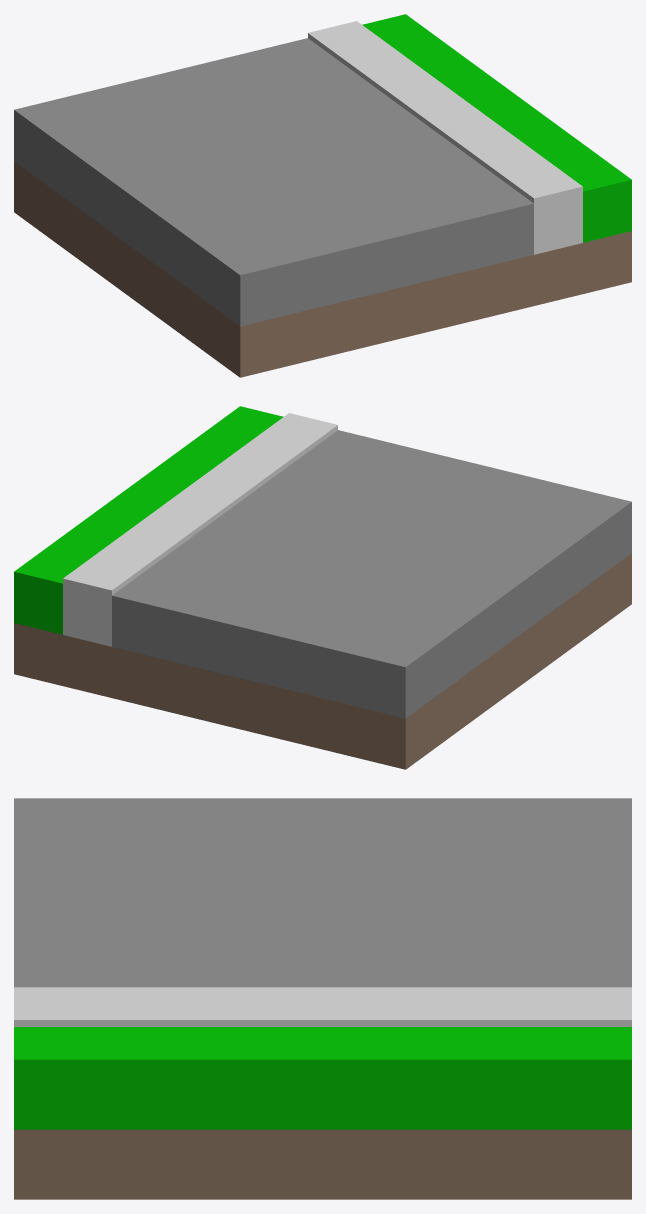
File: CalcadaEsq.fbx
3 renders of one model, top to bottom at view 1: azimuth 30°, elevation 25°; view 2: azimuth 150°, elevation 25°; view 3: azimuth 270°, elevation 25°, orthographic. The views are drawn at different scales.
Visible parts, largest first — view 1: CalcadaEsq; view 2: CalcadaEsq; view 3: CalcadaEsq.
Part boxes in pixels (<box>): CalcadaEsq: <box>14,14,631,377</box>; CalcadaEsq: <box>14,406,631,769</box>; CalcadaEsq: <box>14,798,631,1199</box>.
Size of the model in its own units: 8 by 2.1 by 8.
